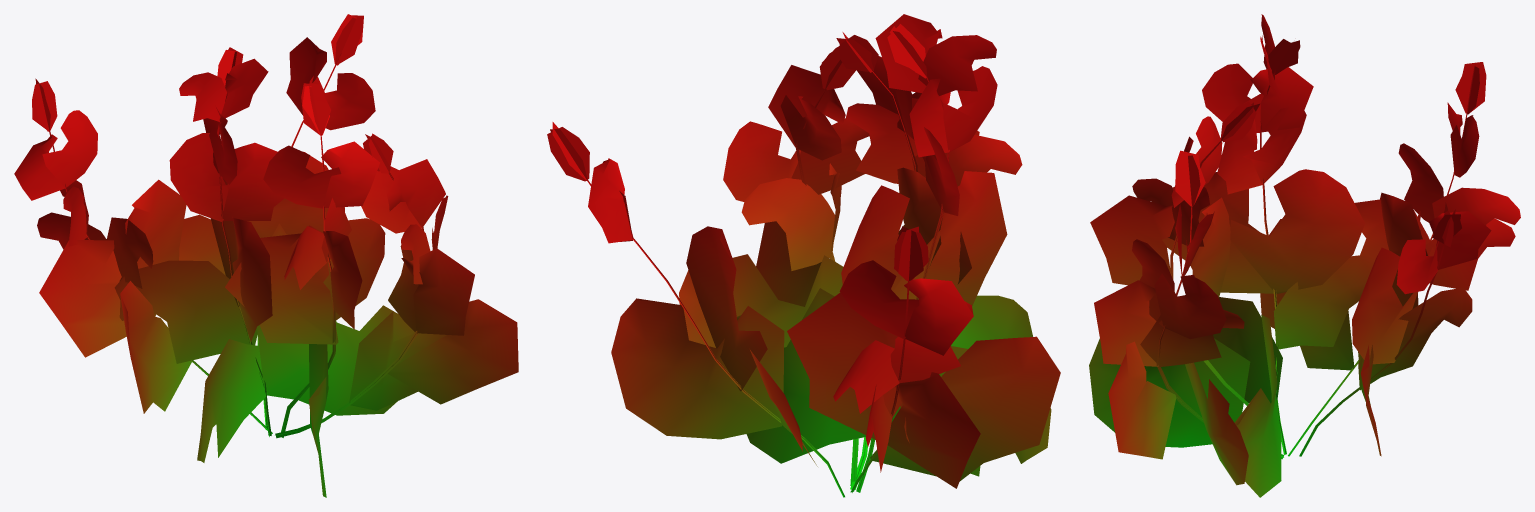
Rendered from White Ramping Fumitory_LOD1_Var1_ti4efc3ia.fbx.
3 views of the same model, side by side, from view 1: azimuth 30°, elevation 25°; view 2: azimuth 150°, elevation 25°; view 3: azimuth 270°, elevation 25° (orthographic). The views are drawn at different scales.
Visible parts, largest first — view 1: _8b66_Var1_LOD1; view 2: _8b66_Var1_LOD1; view 3: _8b66_Var1_LOD1.
Part boxes in pixels (left/top/right/bottom): _8b66_Var1_LOD1: left=14, top=14, right=518, bottom=497; _8b66_Var1_LOD1: left=547, top=14, right=1060, bottom=497; _8b66_Var1_LOD1: left=1089, top=14, right=1520, bottom=497.
Bounding box in the file's own units: 81.23 × 87.88 × 85.69.
